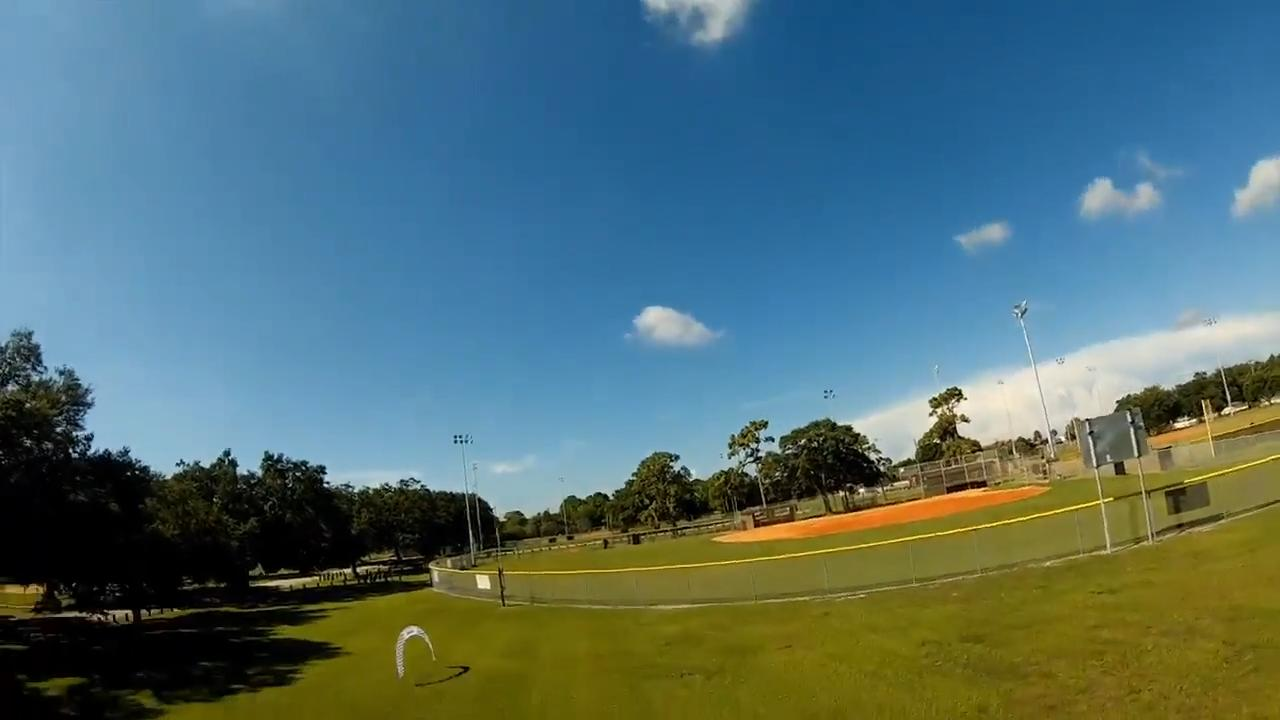gate: (390, 624, 438, 681)
